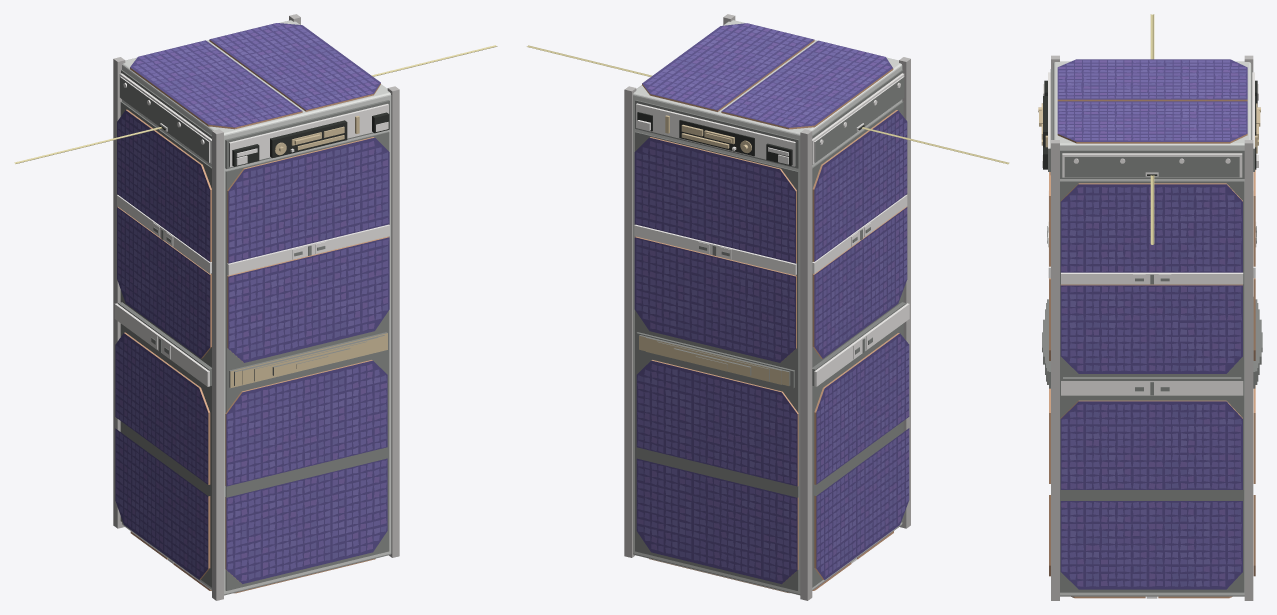
File: cubesat.glb
The picture shows the model from 3 angles, left to right: view 1: azimuth 30°, elevation 25°; view 2: azimuth 150°, elevation 25°; view 3: azimuth 270°, elevation 25°; orthographic projection. The views are drawn at different scales.
Visible parts, largest first — view 1: Layer_0; view 2: Layer_0; view 3: Layer_0.
Boxes of the visible parts, <box> form: Layer_0: <box>14,14,497,600</box>; Layer_0: <box>527,14,1009,600</box>; Layer_0: <box>1038,14,1262,600</box>.
Size of the model in its own units: 5.39 by 5 by 2.21.
2 materials, 2 textured.
